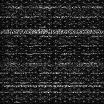lte: (1, 29, 104, 35), (1, 84, 104, 88), (1, 71, 104, 75), (1, 15, 104, 19), (1, 5, 104, 9)
